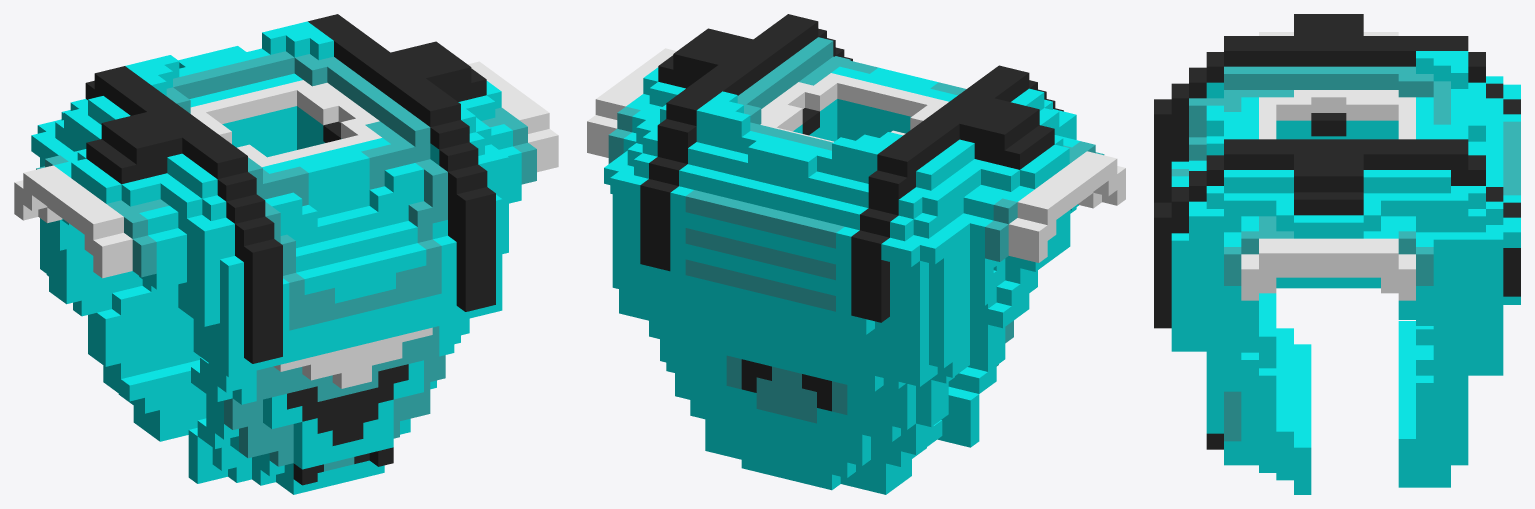
File: Armor_Cyan.obj
The picture shows the model from 3 angles, left to right: view 1: azimuth 30°, elevation 25°; view 2: azimuth 150°, elevation 25°; view 3: azimuth 270°, elevation 25°; orthographic projection.
Bounding box in the file's own units: 3 × 2.2 × 2.1.
Materials: 1 (1 with a texture image).
